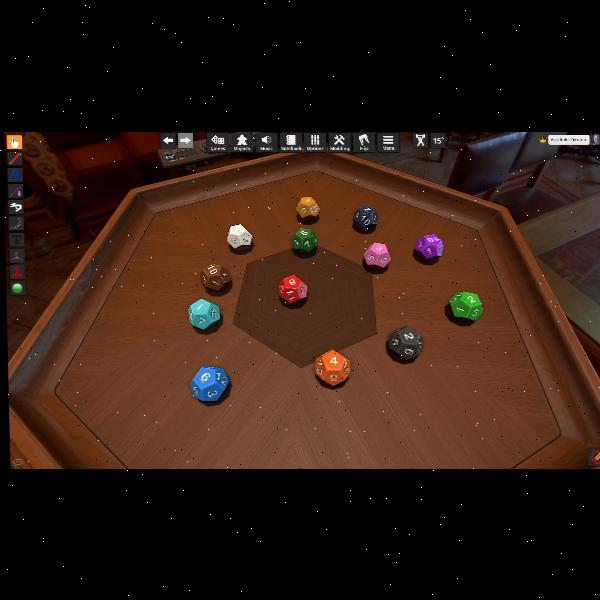d12: (189, 366, 230, 402), (314, 350, 348, 386), (387, 326, 420, 360), (447, 290, 482, 322), (188, 298, 222, 330), (277, 274, 306, 304), (200, 263, 230, 291), (413, 234, 440, 260), (227, 223, 253, 249), (364, 241, 389, 268), (292, 228, 317, 254), (353, 205, 377, 229), (296, 195, 319, 218), (430, 132, 446, 148)
